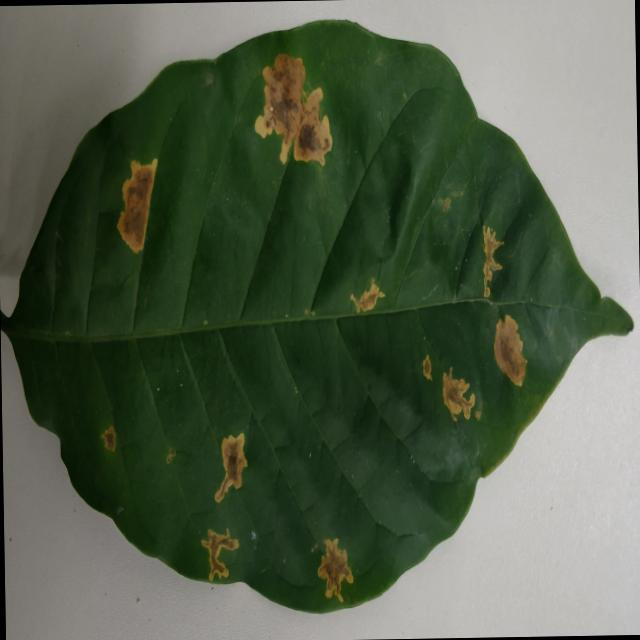PengorokDaunKopi: (255, 54, 332, 165), (117, 158, 157, 252), (214, 432, 247, 502), (494, 314, 526, 386), (317, 538, 353, 602), (201, 527, 238, 581), (443, 366, 474, 421), (482, 226, 504, 297), (350, 278, 385, 312), (101, 426, 115, 451), (423, 354, 431, 379), (166, 448, 175, 463), (443, 197, 451, 211), (304, 309, 314, 316), (475, 410, 481, 420)
